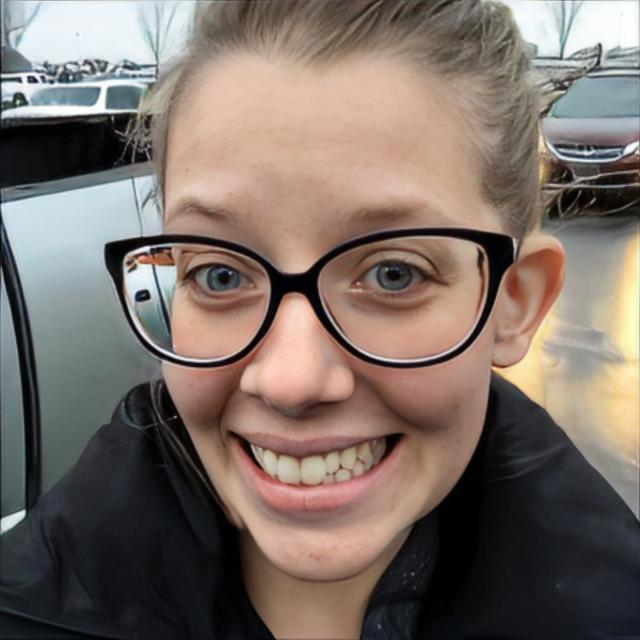happy: (156, 60, 493, 580)
